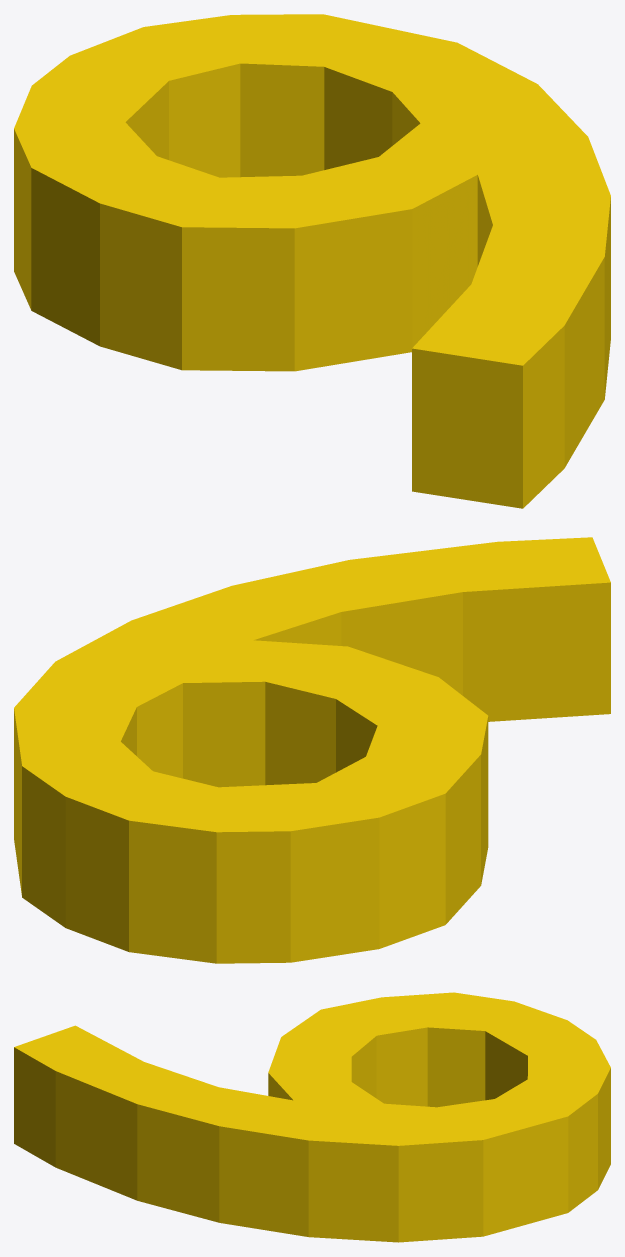
Rendered from nine.glb.
3 views of the same model, one above another, from view 1: azimuth 30°, elevation 25°; view 2: azimuth 150°, elevation 25°; view 3: azimuth 270°, elevation 25° (orthographic). The views are drawn at different scales.
Visible parts, largest first — view 1: Text.009; view 2: Text.009; view 3: Text.009.
Part boxes in pixels (x1,y1,x2,y2): Text.009: [14, 14, 610, 508]; Text.009: [14, 537, 610, 963]; Text.009: [14, 992, 610, 1242].
Size of the model in its own units: 0.3406 by 0.1 by 0.56.
1 material, 1 textured.
